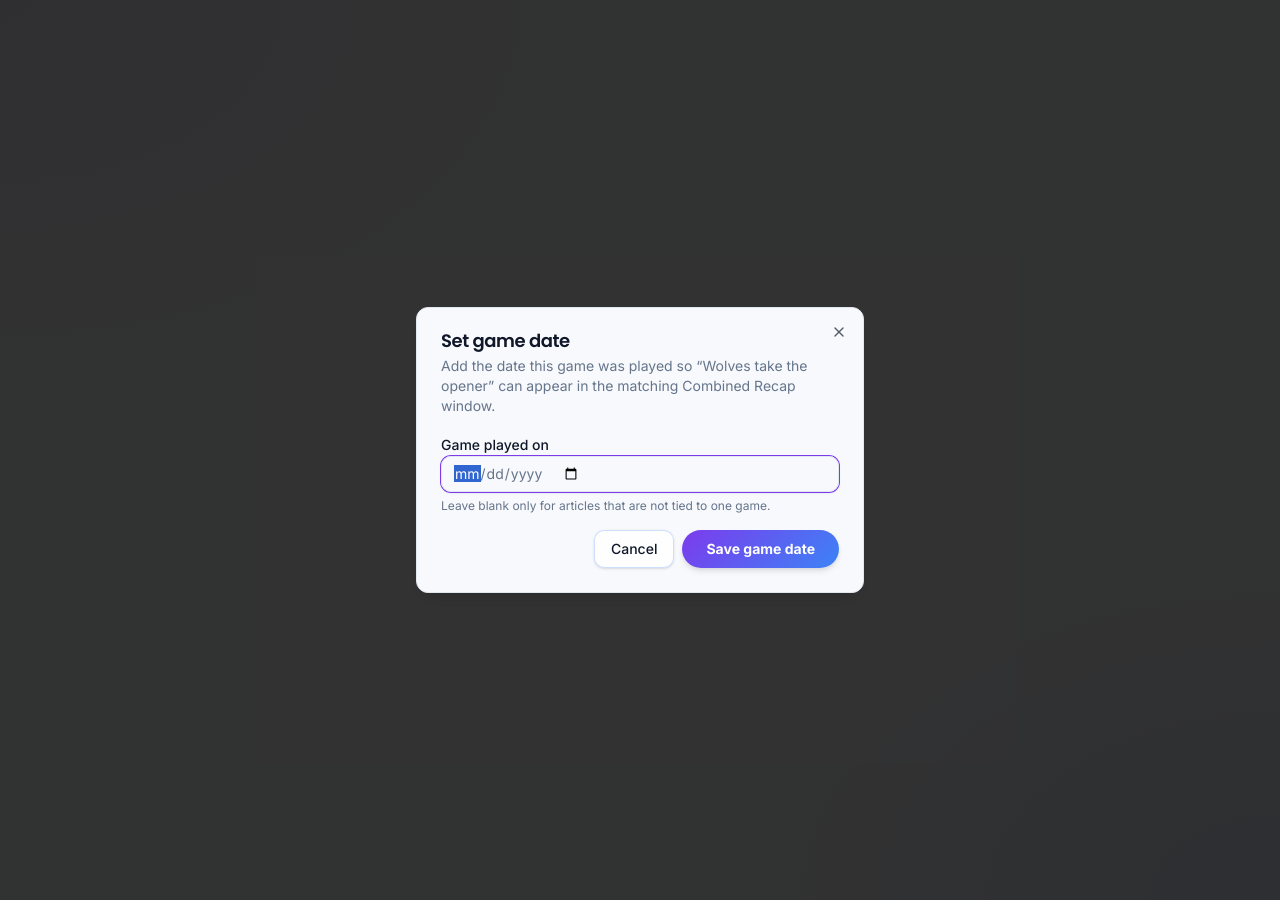
Scenario: NewsGameDateDialog › saves an explicit game date for an existing news article
Later steps or results of the test are not shown.
Type "2025-09-05" into the date field with test id "input-news-game-date-news-1" at (640, 474), box [441,456,839,492]
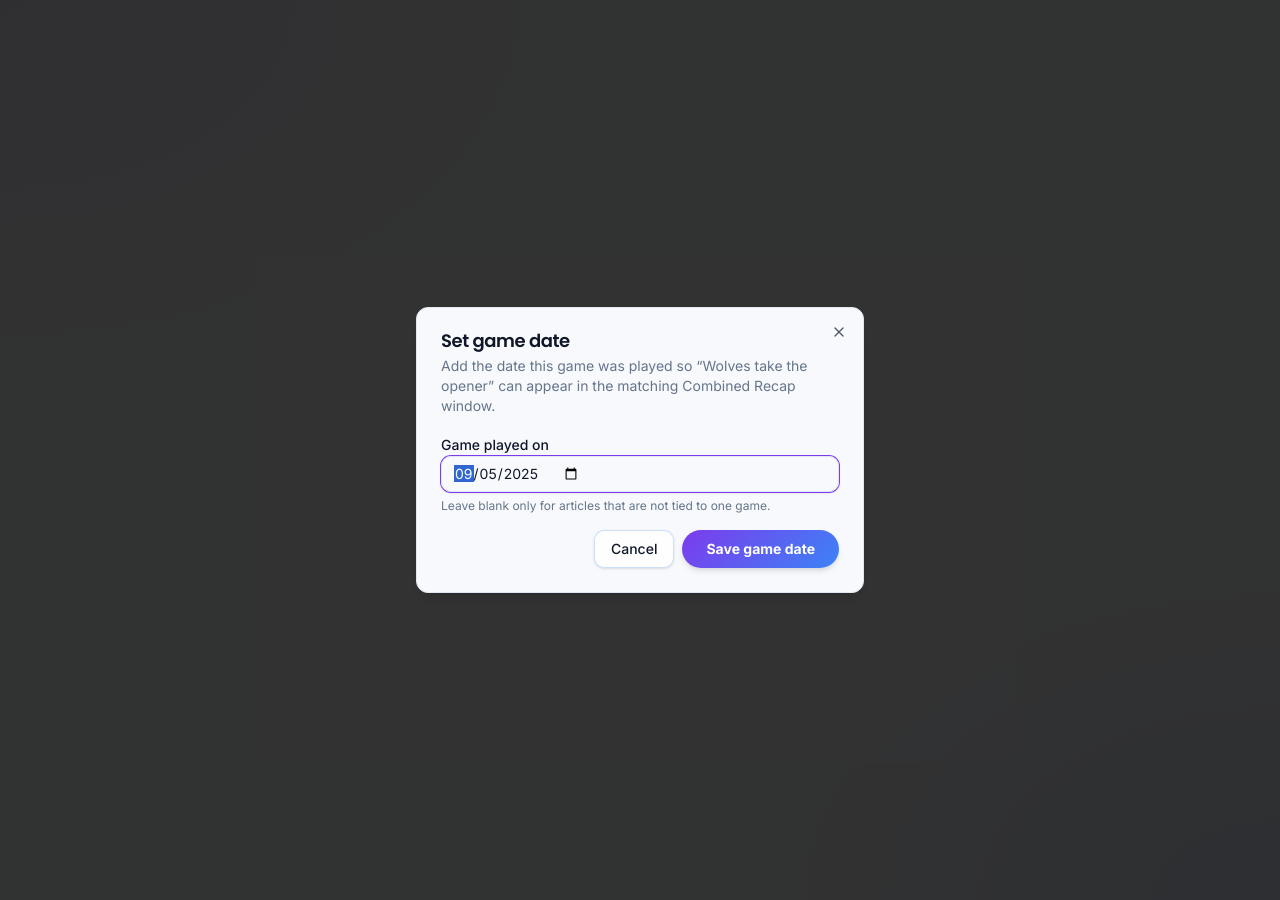
Result: the date field with test id "input-news-game-date-news-1" has class "text-foreground" at [441,456,839,492]
